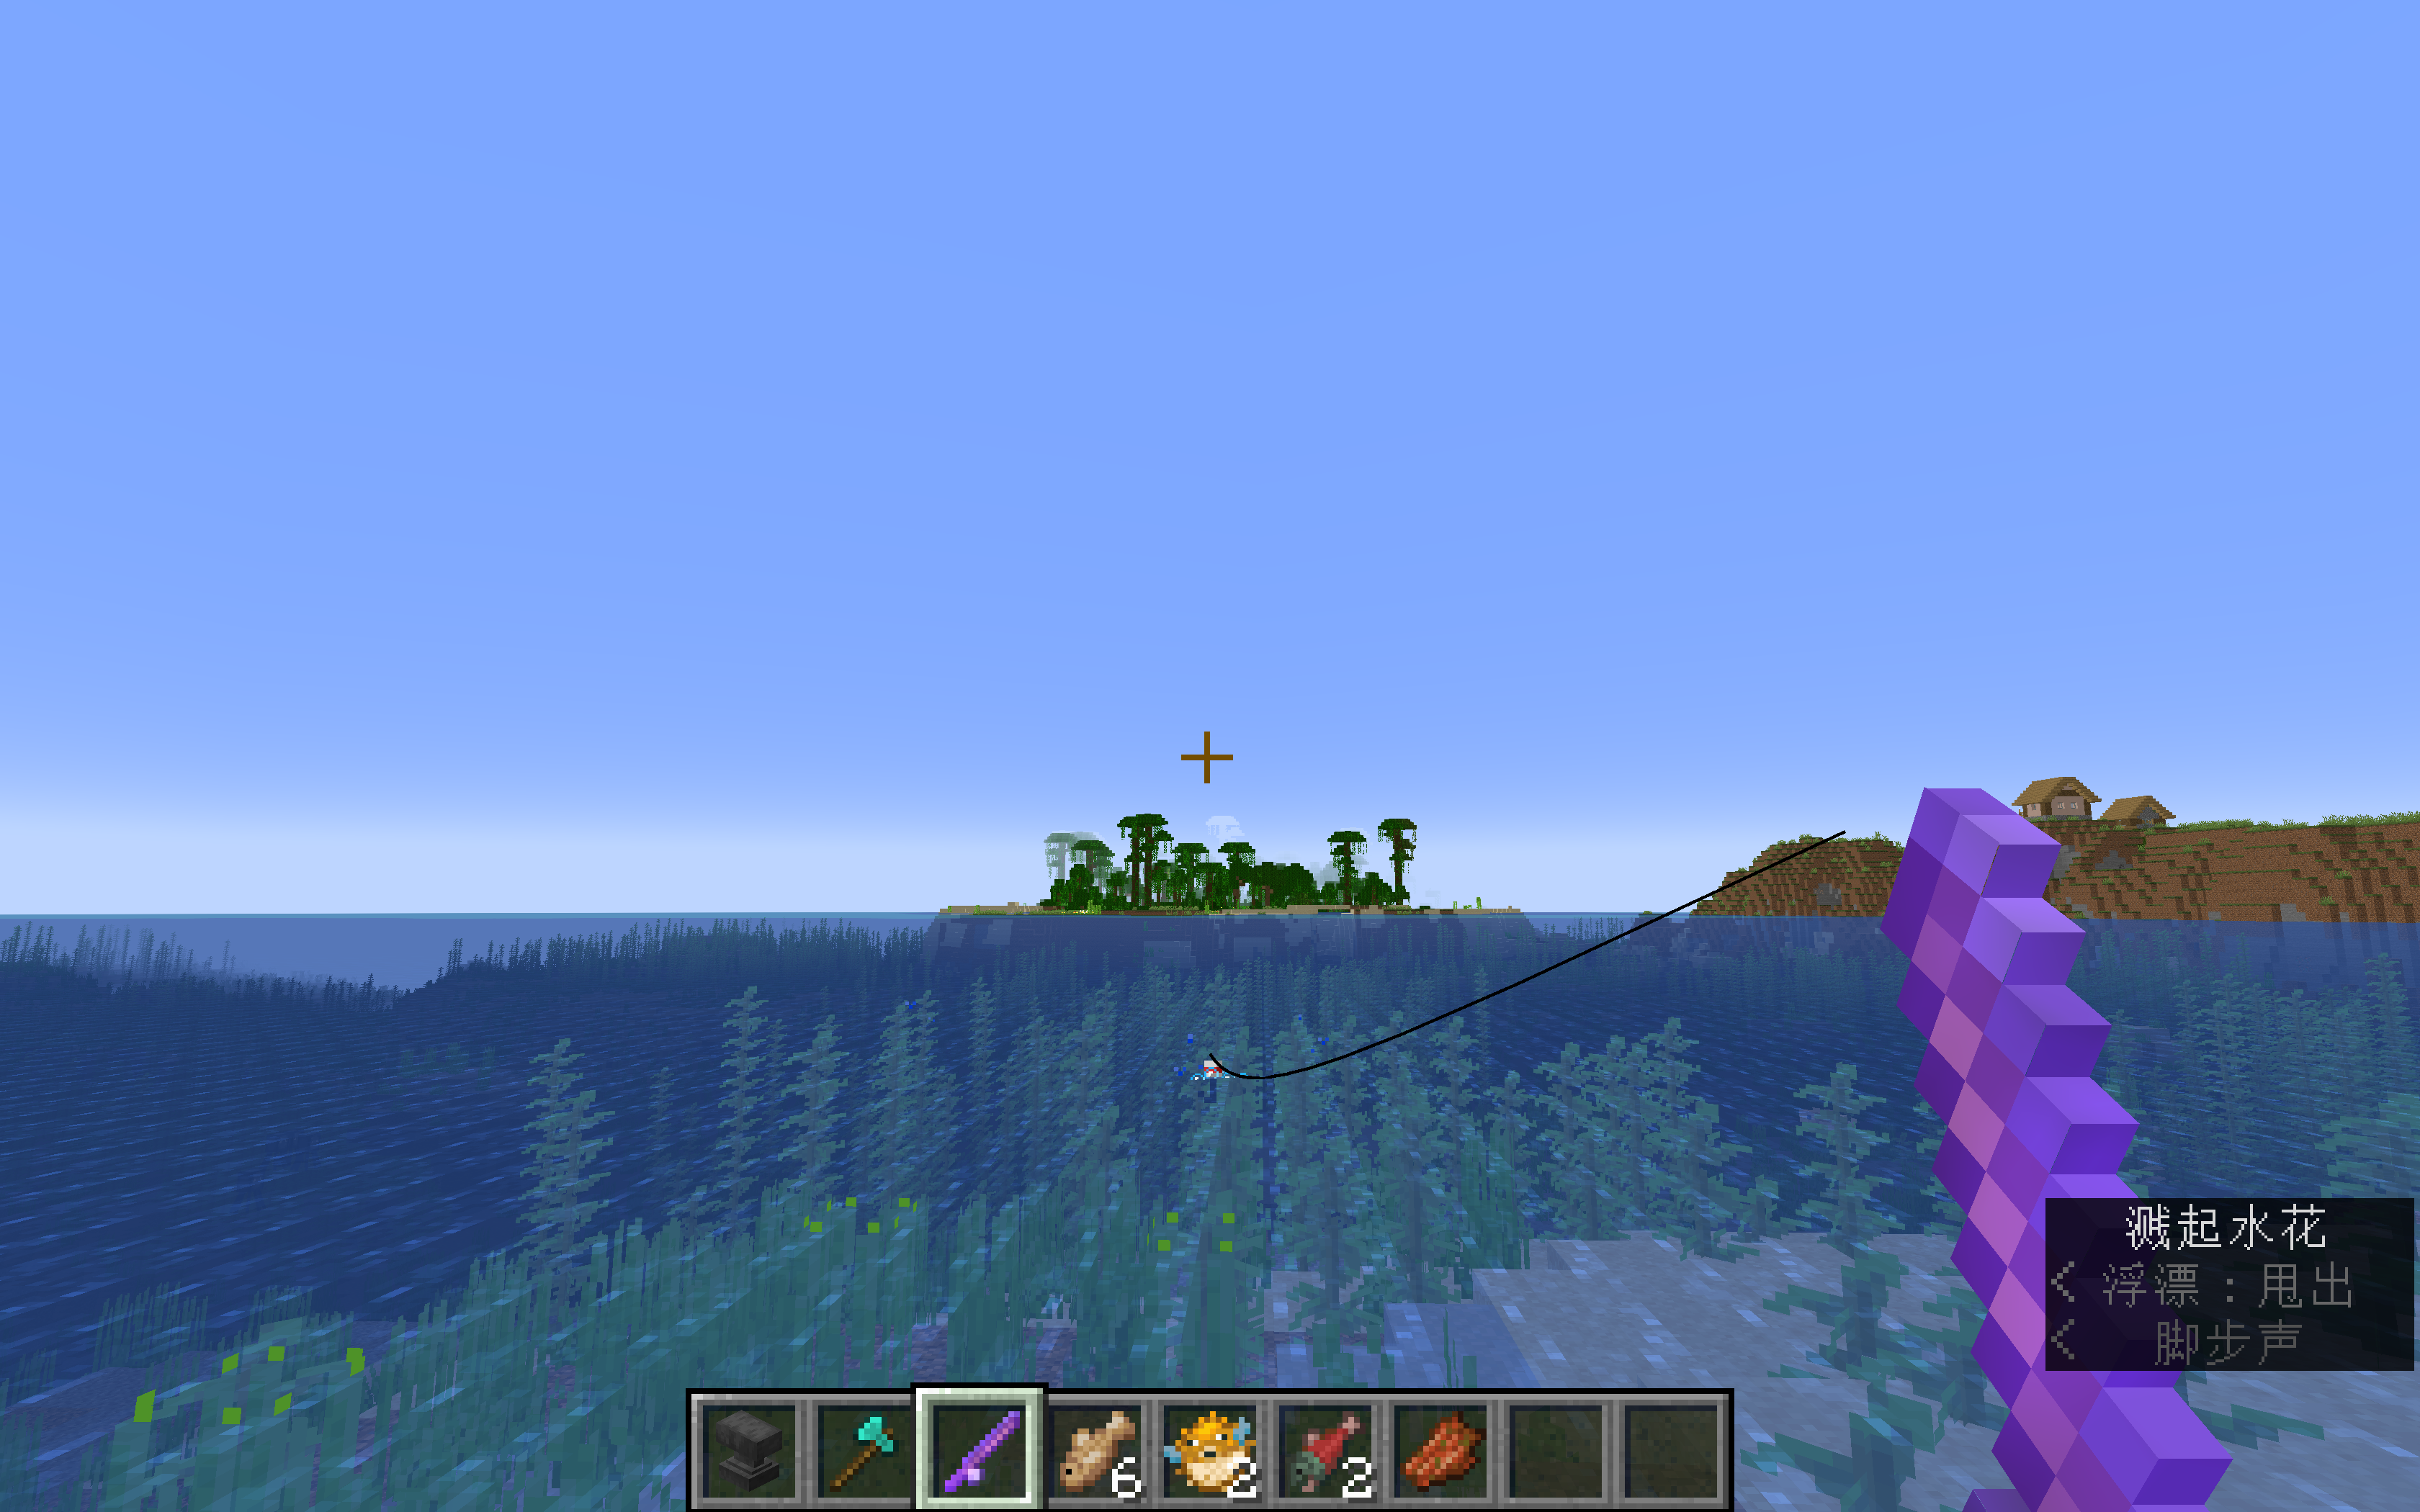inf: (2044, 1197, 2418, 1367)
